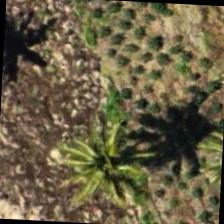Kelapa_Sawit: (63, 112, 158, 206)
